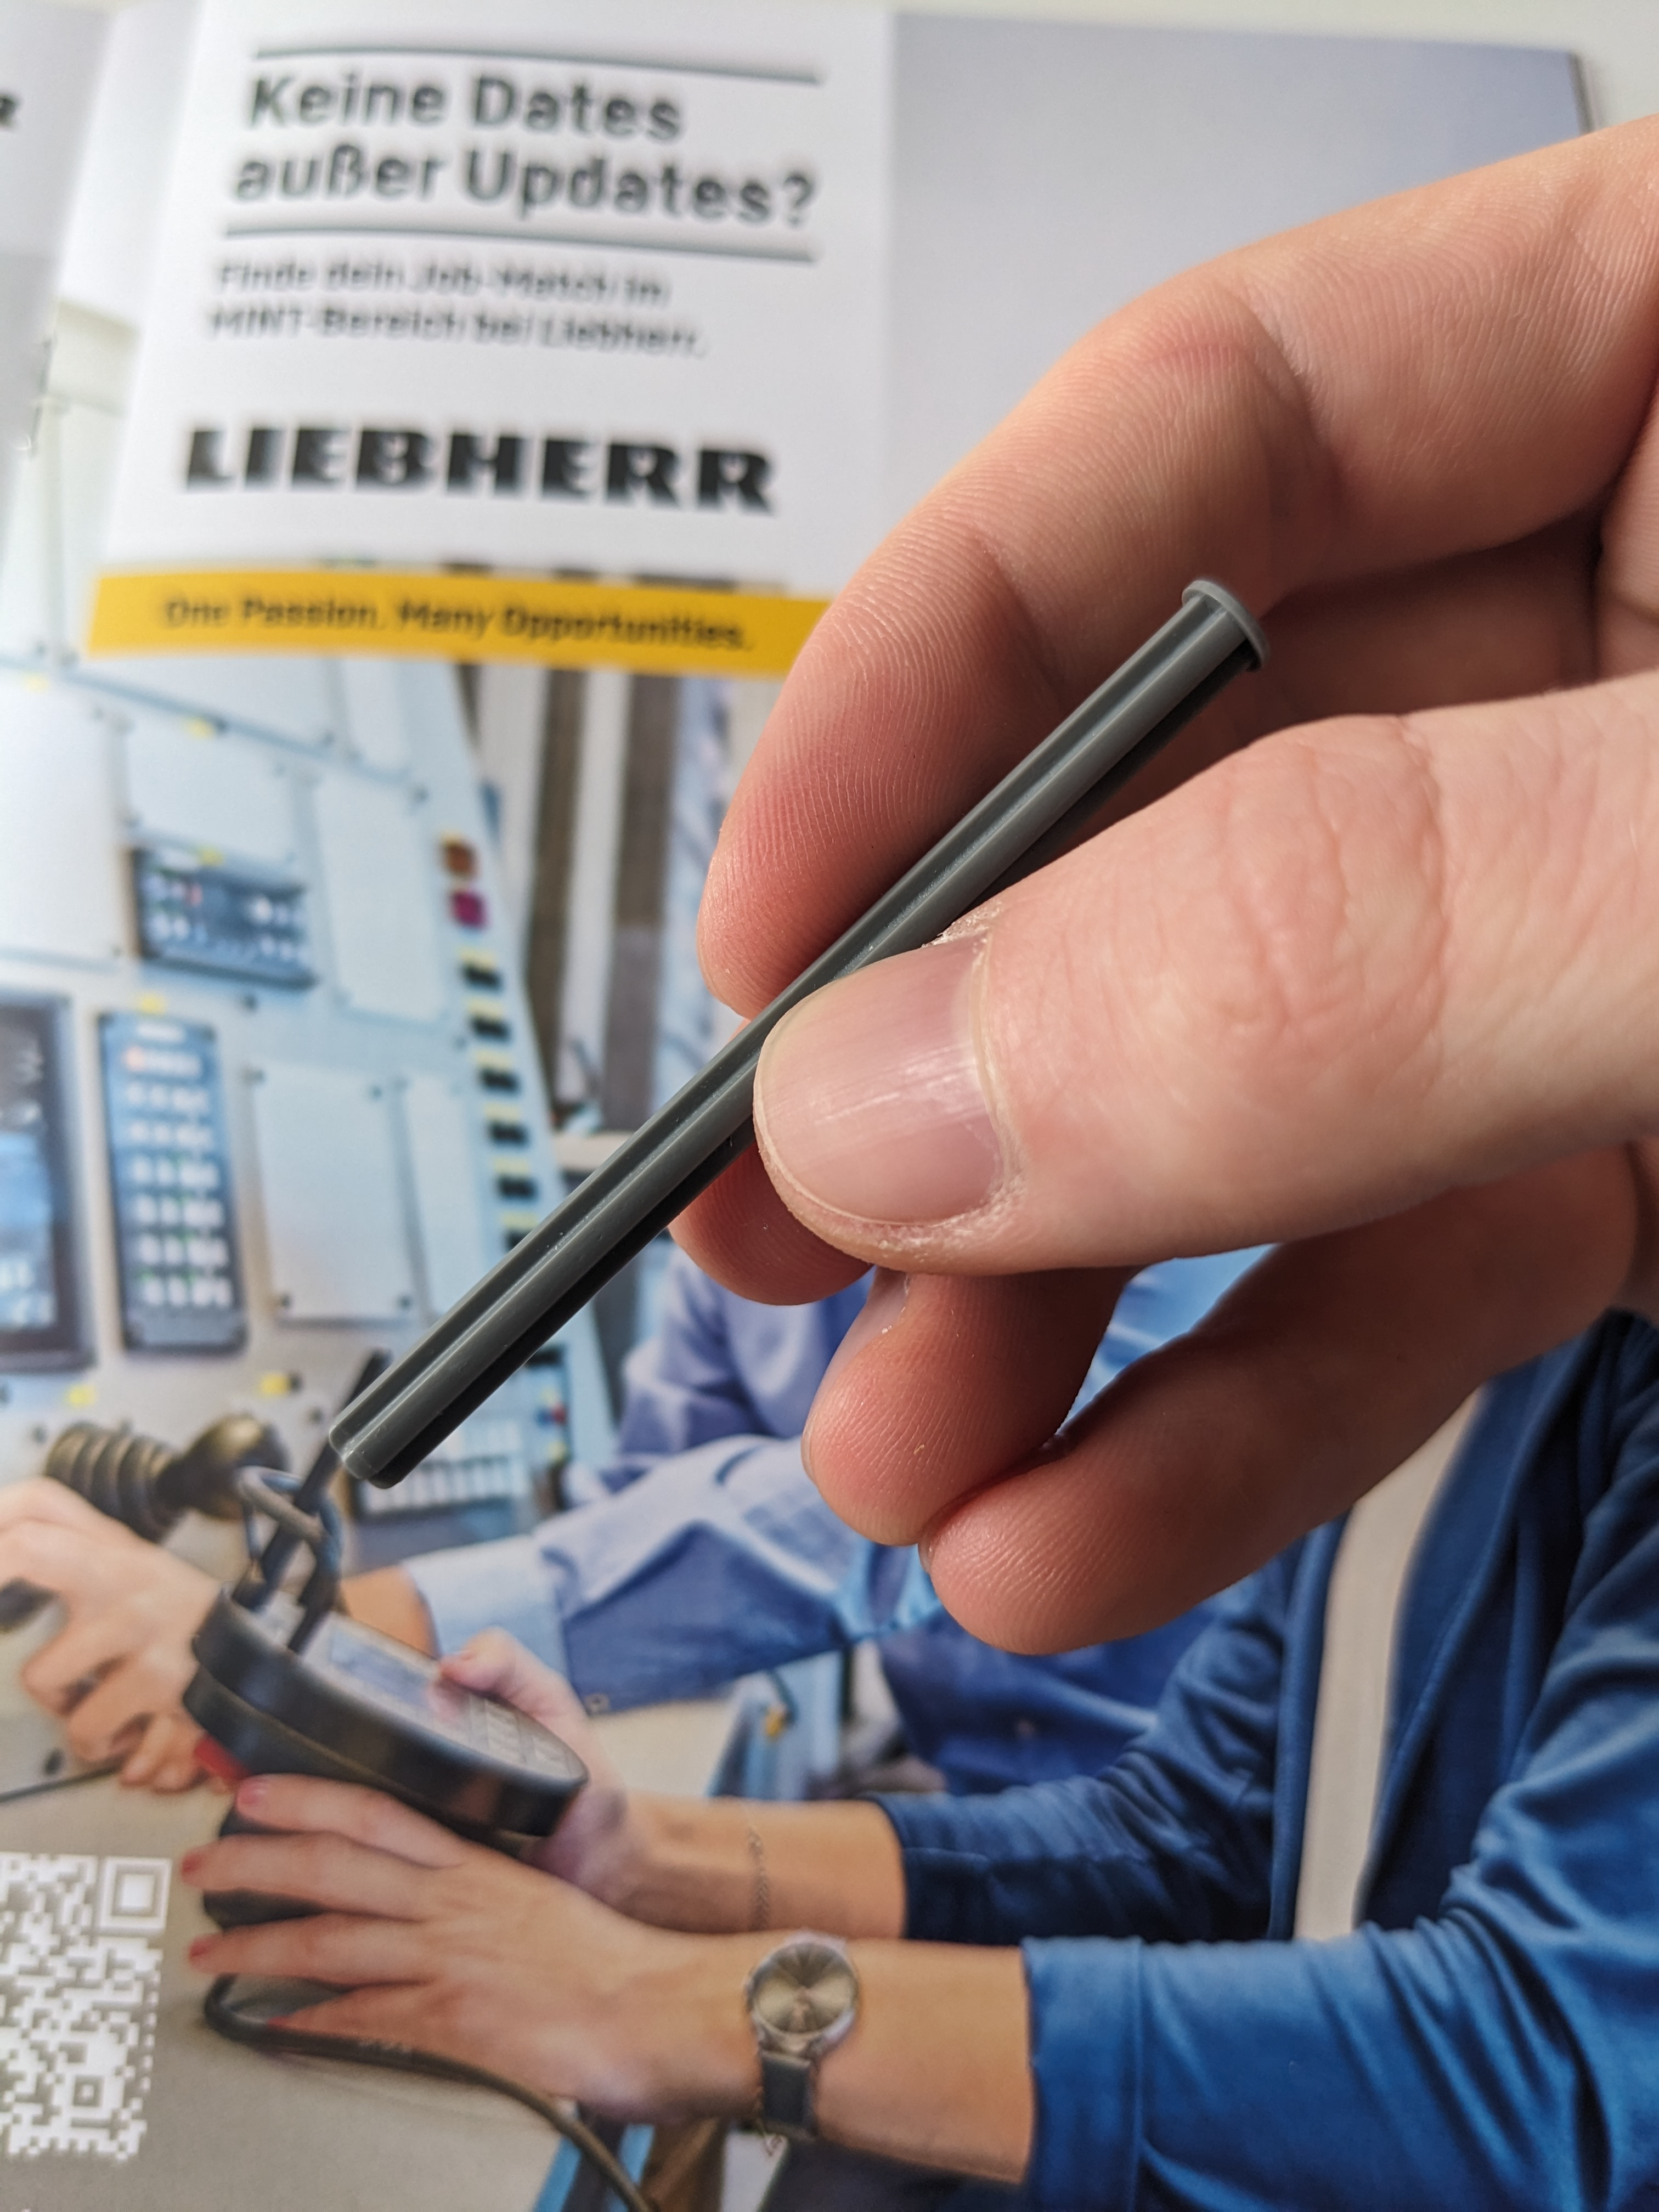Grau_lang: (286, 554, 1309, 1521)
